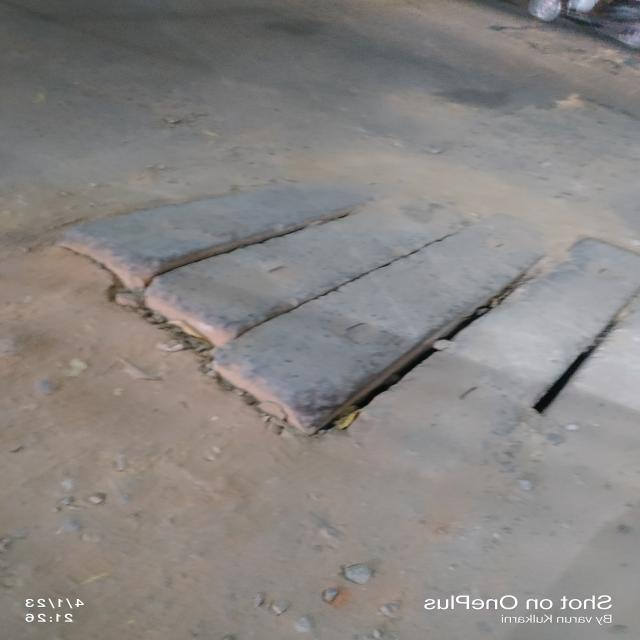manhole: (55, 178, 640, 482)
